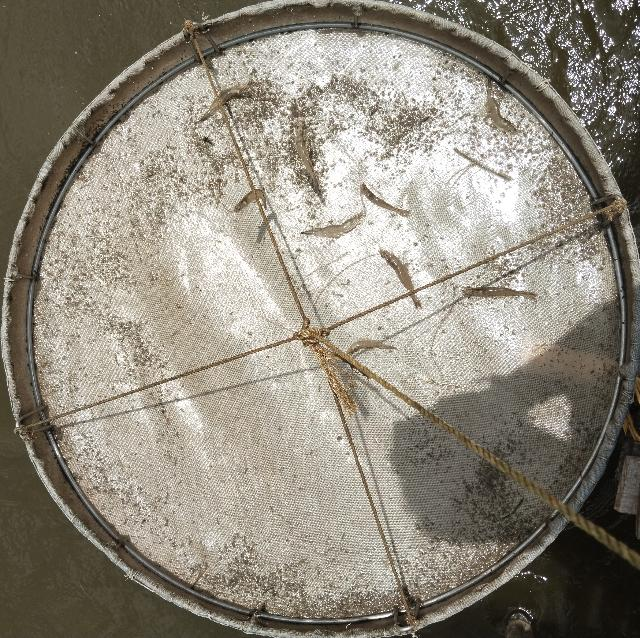shrimp: (375, 247, 422, 310), (293, 120, 323, 195), (486, 78, 520, 134), (199, 87, 253, 122), (359, 182, 411, 217), (300, 211, 364, 238), (462, 287, 537, 302), (345, 339, 399, 356), (233, 189, 268, 213)
